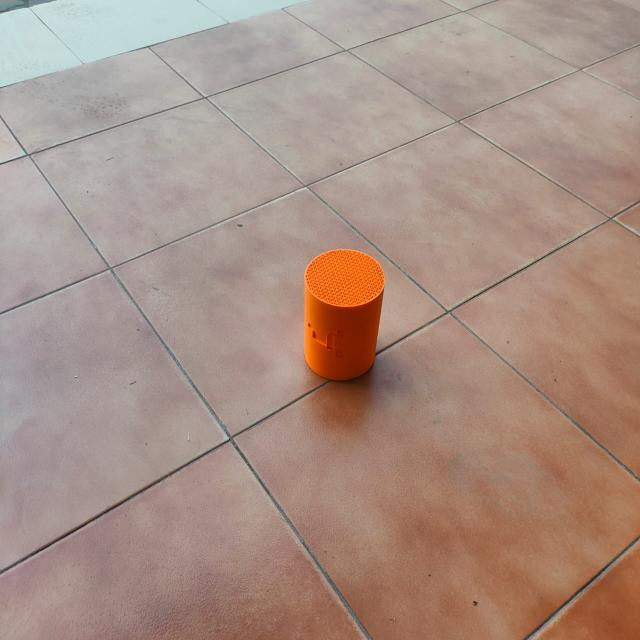Cylinder: (302, 248, 386, 382)
